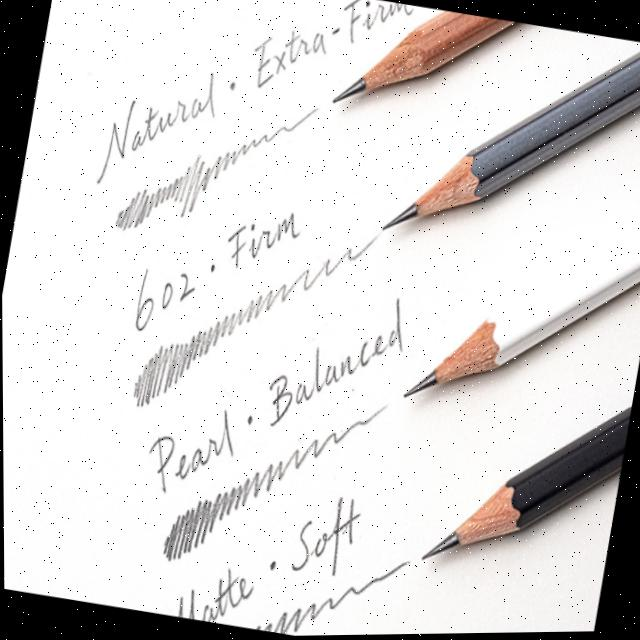pencil: (363, 46, 640, 243), (388, 217, 640, 407), (401, 402, 627, 569), (317, 11, 531, 110)
